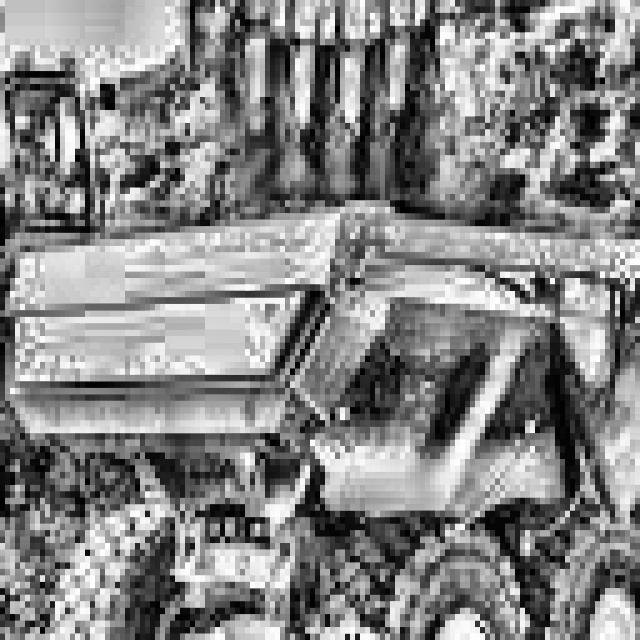dump_truck: (0, 181, 640, 640)
excavator: (0, 0, 465, 375)
